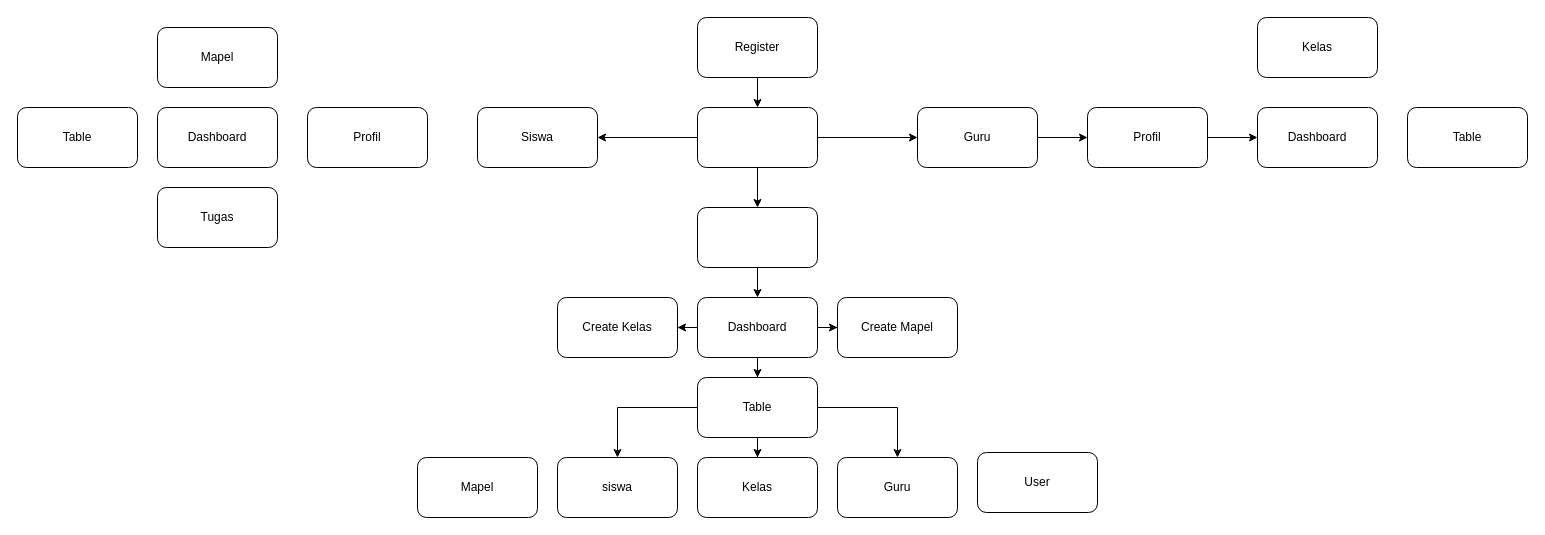
Image size: 1545x535. Some labels were removed from this diagram. Here are the shapes that lost their labels. From the top down, the centre of each, then its label:
At [757,137]: "Login".
At [757,237]: "Admin".
